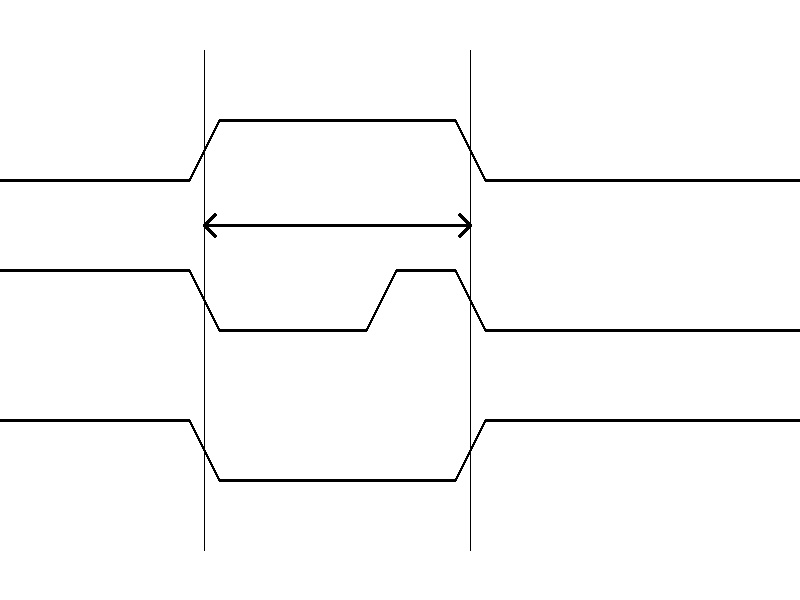double_arrow: (204, 210, 470, 240)
